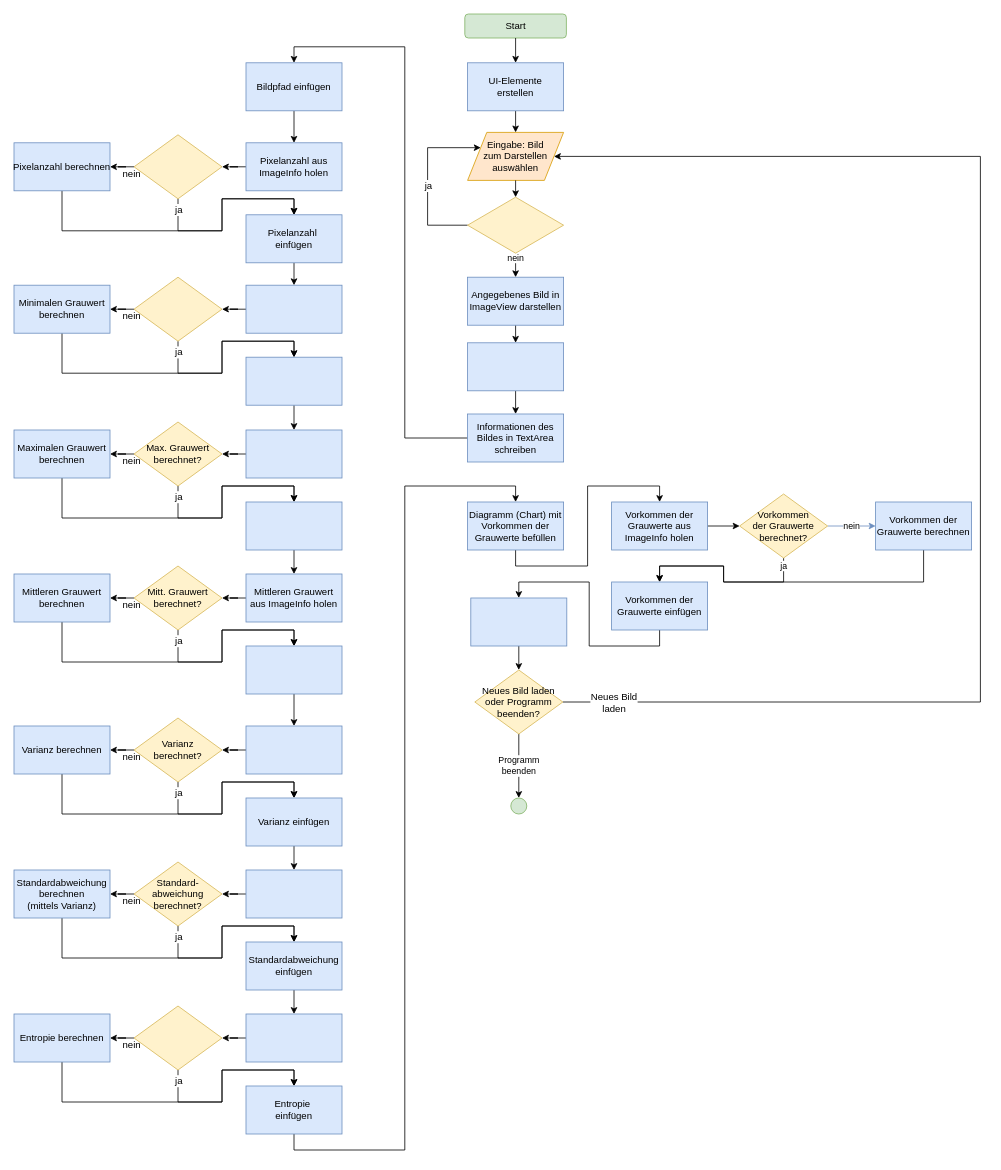
Some shapes in this 1001 by 1170 pixel diagram are drawn without their labels. Each missing label, with the centre of its shape:
Bild laden und ein neues ImageInfo Objekt erstellen: [515,366]
Entropie aus ImageInfo holen: [293,1037]
Entropie berechnet?: [177,1037]
Informationen darstellen: [518,621]
Ist gewähltes Bild null?: [515,224]
Maximalen Grauwert einfügen: [293,525]
Maximalen Grauwert von ImageInfo holen: [293,453]
Min. Grauwert berechnet?: [177,308]
Minimalen Grauwert einfügen: [293,380]
Minimalen Grauwert von ImageInfo holen: [293,308]
Mittleren Grauwert einfügen: [293,669]
Pixelanzahl berechnet?: [177,166]
Standardabweichung aus ImageInfo holen: [293,893]
Varianz aus ImageInfo holen: [293,749]
